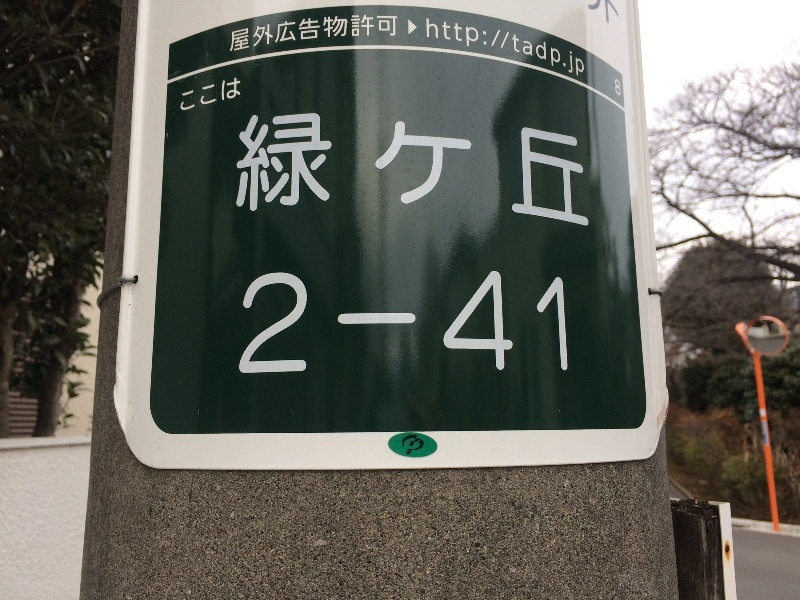text: (241, 112, 256, 227), (257, 112, 272, 227), (273, 112, 288, 227), (289, 112, 304, 227), (305, 112, 320, 227), (321, 112, 336, 227), (337, 112, 352, 227), (353, 112, 368, 227), (369, 112, 384, 227), (385, 112, 400, 227), (401, 112, 416, 227), (417, 112, 432, 227), (433, 112, 448, 227), (449, 112, 464, 227), (465, 112, 480, 227), (481, 112, 496, 227), (497, 112, 512, 227), (513, 112, 528, 227), (529, 112, 544, 227), (545, 112, 560, 227), (561, 112, 576, 227), (257, 272, 272, 374), (273, 272, 288, 374), (289, 272, 304, 374), (305, 272, 320, 374), (321, 272, 336, 374), (337, 272, 352, 374), (353, 272, 368, 374), (369, 272, 384, 374), (385, 272, 400, 374), (401, 272, 416, 374), (417, 272, 432, 374), (433, 272, 448, 374), (449, 272, 464, 374), (465, 272, 480, 374), (481, 272, 496, 374), (497, 272, 512, 374), (513, 272, 528, 374), (529, 272, 544, 374), (545, 272, 560, 374), (577, 112, 590, 227), (246, 272, 256, 374), (433, 17, 448, 78), (449, 17, 464, 78), (465, 17, 480, 78), (481, 17, 496, 78), (497, 17, 512, 78), (513, 17, 528, 78), (529, 17, 544, 78), (545, 17, 560, 78), (561, 17, 576, 78), (561, 272, 568, 374), (241, 10, 256, 53), (257, 10, 272, 53), (273, 10, 288, 53), (289, 10, 304, 53), (305, 10, 320, 53), (321, 10, 336, 53), (337, 10, 352, 53), (353, 10, 368, 53), (369, 10, 384, 53), (385, 10, 399, 53), (225, 77, 241, 112), (193, 77, 208, 112), (209, 77, 224, 112), (577, 17, 584, 78), (181, 77, 192, 112), (593, 1, 608, 24), (232, 10, 240, 53), (427, 17, 432, 78), (609, 1, 619, 24), (615, 78, 624, 97), (588, 1, 592, 24)
